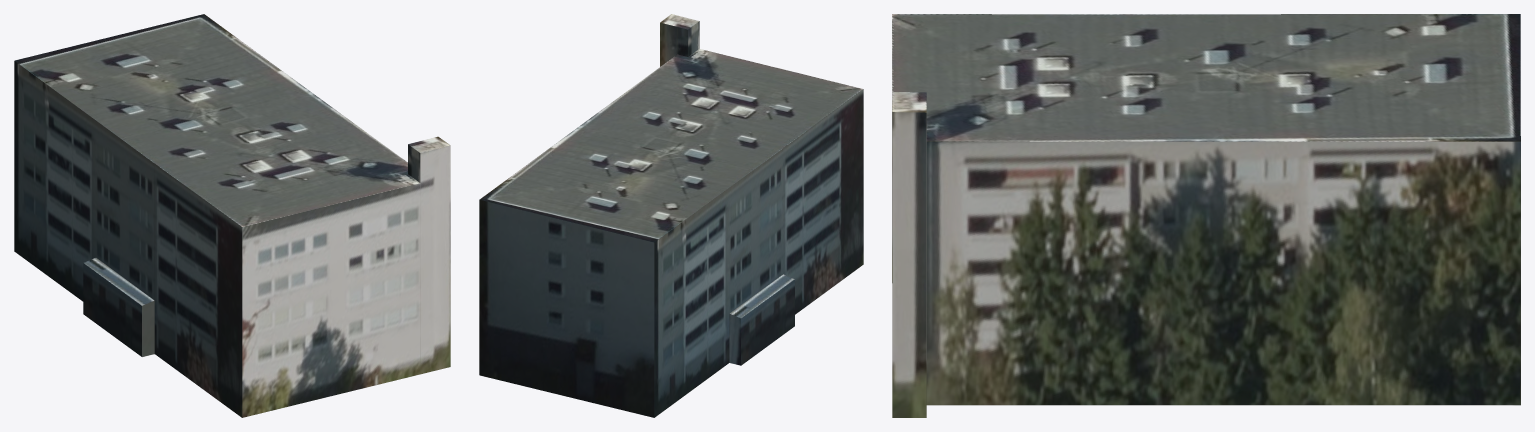
File: talo_build0000016_rotated.obj
The picture shows the model from 3 angles, left to right: view 1: azimuth 30°, elevation 25°; view 2: azimuth 150°, elevation 25°; view 3: azimuth 270°, elevation 25°; orthographic projection. The views are drawn at different scales.
Parts seen in each view (by area): view 1: talo_Build0000016; view 2: talo_Build0000016; view 3: talo_Build0000016.
Part boxes in pixels (x1=…): talo_Build0000016: x1=14, y1=14, x2=450, y2=417; talo_Build0000016: x1=479, y1=14, x2=863, y2=417; talo_Build0000016: x1=892, y1=14, x2=1520, y2=417.
Size of the model in its own units: 2 by 1.91 by 3.56.
